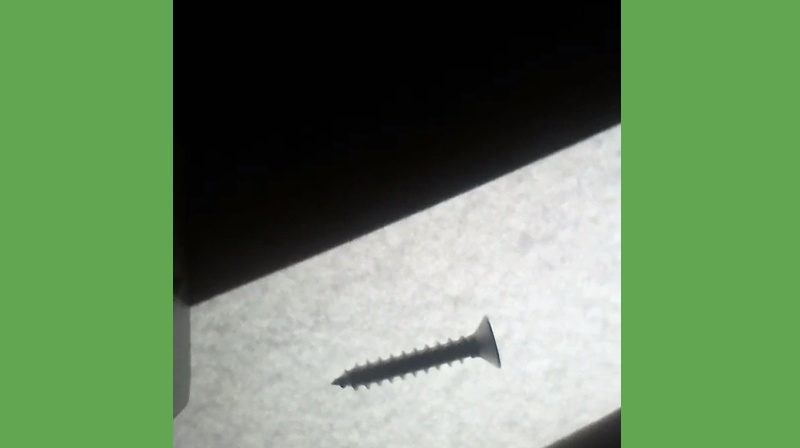S001: (324, 310, 505, 395)
